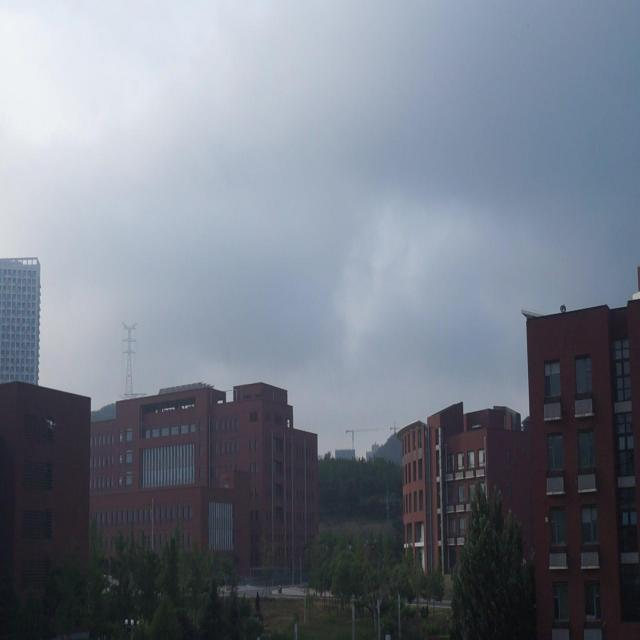UAV: (44, 418, 57, 431)
